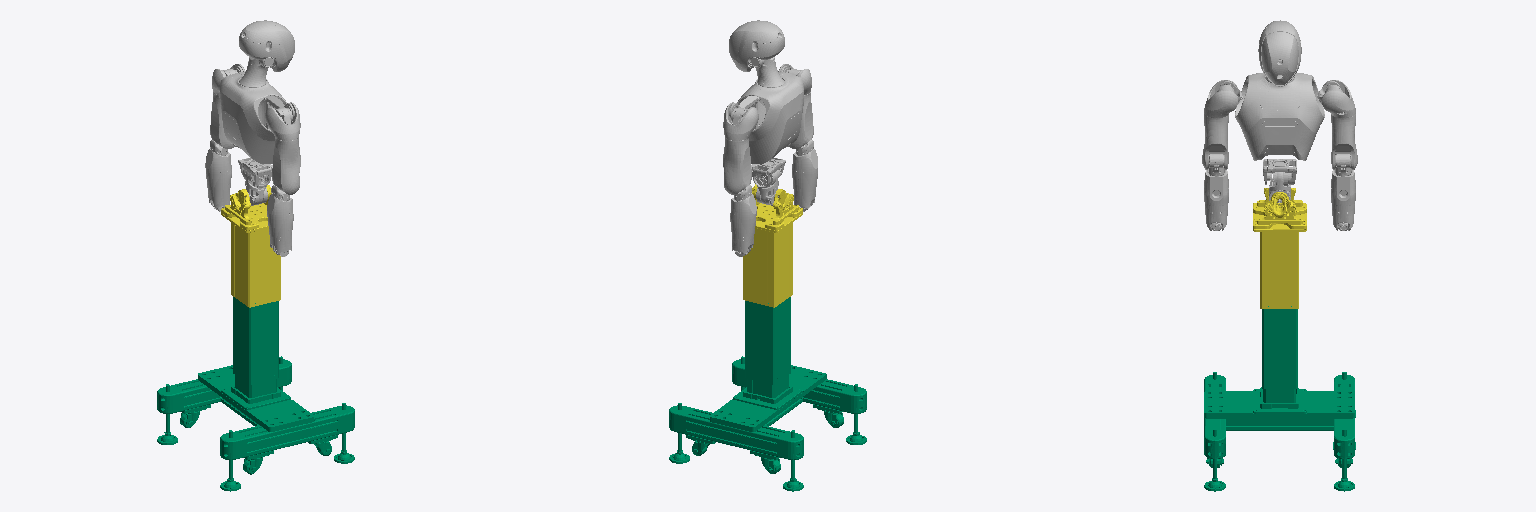
The robot description file, URDF, robot "adam_u":
<?xml version="1.0"?>
<!--
  Robot: adam_u
  Generated by: LinkForge v1.4.4
  https://github.com/arounamounchili/linkforge
  Date: 2026-09-14 10:14:31
-->
<robot name="adam_u">
  <!-- Materials -->
  <material name="Material">
    <color rgba="0.8 0.8 0.8 1" />
  </material>
  <material name="aluminium">
    <color rgba="0.8 0.8 0.8 1" />
  </material>
  <material name="neckYaw_visual_material">
    <color rgba="0.7 0.7 0.7 1" />
  </material>
  <material name="shoulderYawLeft_visual_material">
    <color rgba="0.7 0.7 0.7 1" />
  </material>
  <material name="shoulderYawRight_visual_material">
    <color rgba="0.7 0.7 0.7 1" />
  </material>
  <!-- Links -->
  <link name="elbowLeft">
    <inertial>
      <origin xyz="-0.013718 -0.178893 -1.250233" rpy="0 0 0" />
      <mass value="0.877615" />
      <inertia ixx="0.146269" ixy="0" ixz="0" iyy="0.146269" iyz="0" izz="0.146269" />
    </inertial>
    <visual>
      <origin xyz="-0.013494 0.0285 -0.031002" rpy="0 0 0" />
      <geometry>
        <mesh filename="meshes/elbowLeft_visual.stl" />
      </geometry>
      <material name="aluminium" />
    </visual>
    <collision>
      <origin xyz="-0.013718 -0.178893 -1.250233" rpy="0 0 0" />
      <geometry>
        <mesh filename="meshes/elbowLeft_collision.stl" />
      </geometry>
    </collision>
  </link>
  <link name="elbowRight">
    <inertial>
      <origin xyz="-0.013721 0.17784 -1.250233" rpy="0 0 0" />
      <mass value="0.877615" />
      <inertia ixx="0.146269" ixy="0" ixz="0" iyy="0.146269" iyz="0" izz="0.146269" />
    </inertial>
    <visual>
      <origin xyz="-0.013496 -0.0285 -0.031002" rpy="0 0 0" />
      <geometry>
        <mesh filename="meshes/elbowRight_visual.stl" />
      </geometry>
      <material name="aluminium" />
    </visual>
    <collision>
      <origin xyz="-0.013721 0.17784 -1.250233" rpy="0 0 0" />
      <geometry>
        <mesh filename="meshes/elbowRight_collision.stl" />
      </geometry>
    </collision>
  </link>
  <link name="lifting_Columns_base">
    <inertial>
      <origin xyz="0.000198 0 0.28387" rpy="0 0 0" />
      <mass value="1" />
      <inertia ixx="0.166667" ixy="0" ixz="0" iyy="0.166667" iyz="0" izz="0.166667" />
    </inertial>
    <visual>
      <origin xyz="0.000198 0 0.322" rpy="0 0 0" />
      <geometry>
        <mesh filename="meshes/lifting_Columns_base_visual.stl" />
      </geometry>
    </visual>
    <collision>
      <origin xyz="0.000198 0 0.28387" rpy="0 0 0" />
      <geometry>
        <mesh filename="meshes/lifting_Columns_base_collision.stl" />
      </geometry>
    </collision>
  </link>
  <link name="lifting_Columns_top_visual">
    <inertial>
      <origin xyz="-0.001022 0.001245 -0.411183" rpy="0 0 0" />
      <mass value="1" />
      <inertia ixx="0.166667" ixy="0" ixz="0" iyy="0.166667" iyz="0" izz="0.166667" />
    </inertial>
    <visual>
      <origin xyz="-0.000399 0.000636 0.232574" rpy="0 0 0" />
      <geometry>
        <mesh filename="meshes/lifting_Columns_top_visual_visual.stl" />
      </geometry>
    </visual>
    <collision>
      <origin xyz="-0.001022 0.001245 -0.411183" rpy="0 0 0" />
      <geometry>
        <mesh filename="meshes/lifting_Columns_top_visual_collision.stl" />
      </geometry>
    </collision>
  </link>
  <link name="neckPitch">
    <inertial>
      <origin xyz="0.009728 -0.040402 -1.627466" rpy="0 0 0" />
      <mass value="0.997409" />
      <inertia ixx="0.166235" ixy="0" ixz="0" iyy="0.166235" iyz="0" izz="0.166235" />
    </inertial>
    <visual>
      <origin xyz="0.028552 -0.019876 0.026487" rpy="0 0 0" />
      <geometry>
        <mesh filename="meshes/neckPitch_visual.stl" />
      </geometry>
      <material name="Material" />
    </visual>
    <collision>
      <origin xyz="0.009728 -0.040402 -1.627466" rpy="0 0 0" />
      <geometry>
        <mesh filename="meshes/neckPitch_collision.stl" />
      </geometry>
    </collision>
  </link>
  <link name="neckYaw">
    <inertial>
      <origin xyz="0.034852 -0.000403 -1.429138" rpy="0 0 0" />
      <mass value="0.412424" />
      <inertia ixx="0.068737" ixy="0" ixz="0" iyy="0.068737" iyz="0" izz="0.068737" />
    </inertial>
    <visual>
      <origin xyz="0.015556 -0.000019 0.07645" rpy="0 0 0" />
      <geometry>
        <mesh filename="meshes/neckYaw_visual_0.stl" />
      </geometry>
      <material name="neckYaw_visual_material" />
    </visual>
    <visual>
      <origin xyz="0.022076 0.000124 0.079432" rpy="0 0 0" />
      <geometry>
        <mesh filename="meshes/neckYaw_visual_1.stl" />
      </geometry>
      <material name="Material" />
    </visual>
    <collision>
      <origin xyz="0.034852 -0.000403 -1.429138" rpy="0 0 0" />
      <geometry>
        <mesh filename="meshes/neckYaw_collision.stl" />
      </geometry>
    </collision>
  </link>
  <link name="shoulderPitchLeft">
    <inertial>
      <origin xyz="-0.001474 -0.622045 -1.334742" rpy="-0.34907 0 0" />
      <mass value="0.216536" />
      <inertia ixx="0.036089" ixy="0" ixz="0" iyy="0.036089" iyz="0" izz="0.036089" />
    </inertial>
    <visual>
      <origin xyz="-0.00125 0.031009 0.01129" rpy="0.34907 0 0" />
      <geometry>
        <mesh filename="meshes/shoulderPitchLeft_visual.stl" />
      </geometry>
      <material name="aluminium" />
    </visual>
    <collision>
      <origin xyz="-0.001474 -0.622045 -1.334742" rpy="-0.34907 0 0" />
      <geometry>
        <mesh filename="meshes/shoulderPitchLeft_collision.stl" />
      </geometry>
    </collision>
  </link>
  <link name="shoulderPitchRight">
    <inertial>
      <origin xyz="-0.001474 0.621054 -1.335099" rpy="0.34907 0 0" />
      <mass value="0.216536" />
      <inertia ixx="0.036089" ixy="0" ixz="0" iyy="0.036089" iyz="0" izz="0.036089" />
    </inertial>
    <visual>
      <origin xyz="-0.00125 -0.031008 0.011293" rpy="-0.34907 0 0" />
      <geometry>
        <mesh filename="meshes/shoulderPitchRight_visual.stl" />
      </geometry>
      <material name="aluminium" />
    </visual>
    <collision>
      <origin xyz="-0.001474 0.621054 -1.335099" rpy="0.34907 0 0" />
      <geometry>
        <mesh filename="meshes/shoulderPitchRight_collision.stl" />
      </geometry>
    </collision>
  </link>
  <link name="shoulderRollLeft">
    <inertial>
      <origin xyz="-0.066384 -0.18505 -1.491619" rpy="0 0 0" />
      <mass value="0.746227" />
      <inertia ixx="0.124371" ixy="0" ixz="0" iyy="0.124371" iyz="0" izz="0.124371" />
    </inertial>
    <visual>
      <origin xyz="-0.03275 0.015476 -0.015" rpy="0 0 0" />
      <geometry>
        <mesh filename="meshes/shoulderRollLeft_visual_0.stl" />
      </geometry>
      <material name="aluminium" />
    </visual>
    <visual>
      <origin xyz="-0.03266 0.016844 -0.009738" rpy="0 0 0" />
      <geometry>
        <mesh filename="meshes/shoulderRollLeft_visual_1.stl" />
      </geometry>
      <material name="Material" />
    </visual>
    <collision>
      <origin xyz="-0.066384 -0.18505 -1.491619" rpy="0 0 0" />
      <geometry>
        <mesh filename="meshes/shoulderRollLeft_collision.stl" />
      </geometry>
    </collision>
  </link>
  <link name="shoulderRollRight">
    <inertial>
      <origin xyz="-0.066384 0.183996 -1.491619" rpy="0 0 0" />
      <mass value="0.745069" />
      <inertia ixx="0.124178" ixy="0" ixz="0" iyy="0.124178" iyz="0" izz="0.124178" />
    </inertial>
    <visual>
      <origin xyz="-0.032742 -0.015481 -0.015" rpy="0 0 0" />
      <geometry>
        <mesh filename="meshes/shoulderRollRight_visual_0.stl" />
      </geometry>
      <material name="aluminium" />
    </visual>
    <visual>
      <origin xyz="-0.03266 -0.016844 -0.009738" rpy="0 0 0" />
      <geometry>
        <mesh filename="meshes/shoulderRollRight_visual_1.stl" />
      </geometry>
      <material name="Material" />
    </visual>
    <collision>
      <origin xyz="-0.066384 0.183996 -1.491619" rpy="0 0 0" />
      <geometry>
        <mesh filename="meshes/shoulderRollRight_collision.stl" />
      </geometry>
    </collision>
  </link>
  <link name="shoulderYawLeft">
    <inertial>
      <origin xyz="0.001096 -0.232703 -1.542371" rpy="0 0 0" />
      <mass value="0.765739" />
      <inertia ixx="0.127623" ixy="0" ixz="0" iyy="0.127623" iyz="0" izz="0.127623" />
    </inertial>
    <visual>
      <origin xyz="-0.0025 0.00225 -0.117075" rpy="0 0 0" />
      <geometry>
        <mesh filename="meshes/shoulderYawLeft_visual_0.stl" />
      </geometry>
      <material name="shoulderYawLeft_visual_material" />
    </visual>
    <visual>
      <origin xyz="0.00132 0.003191 -0.122632" rpy="0 0 0" />
      <geometry>
        <mesh filename="meshes/shoulderYawLeft_visual_1.stl" />
      </geometry>
      <material name="Material" />
    </visual>
    <collision>
      <origin xyz="0.001096 -0.232703 -1.542371" rpy="0 0 0" />
      <geometry>
        <mesh filename="meshes/shoulderYawLeft_collision.stl" />
      </geometry>
    </collision>
  </link>
  <link name="shoulderYawRight">
    <inertial>
      <origin xyz="0.001096 0.231649 -1.542371" rpy="0 0 0" />
      <mass value="0.765306" />
      <inertia ixx="0.127551" ixy="0" ixz="0" iyy="0.127551" iyz="0" izz="0.127551" />
    </inertial>
    <visual>
      <origin xyz="-0.0025 -0.00225 -0.117075" rpy="0 0 0" />
      <geometry>
        <mesh filename="meshes/shoulderYawRight_visual_0.stl" />
      </geometry>
      <material name="shoulderYawRight_visual_material" />
    </visual>
    <visual>
      <origin xyz="0.00132 -0.003191 -0.122632" rpy="0 0 0" />
      <geometry>
        <mesh filename="meshes/shoulderYawRight_visual_1.stl" />
      </geometry>
      <material name="Material" />
    </visual>
    <collision>
      <origin xyz="0.001096 0.231649 -1.542371" rpy="0 0 0" />
      <geometry>
        <mesh filename="meshes/shoulderYawRight_collision.stl" />
      </geometry>
    </collision>
  </link>
  <link name="torso">
    <inertial>
      <origin xyz="-0.00404 -0.000449 -1.039241" rpy="0 0 0" />
      <mass value="12.229875" />
      <inertia ixx="2.038312" ixy="0" ixz="0" iyy="2.038312" iyz="0" izz="2.038312" />
    </inertial>
    <visual>
      <origin xyz="0.001034 0.000078 0.157265" rpy="0 0 0" />
      <geometry>
        <mesh filename="meshes/torso_visual_0.stl" />
      </geometry>
      <material name="aluminium" />
    </visual>
    <visual>
      <origin xyz="-0.003816 0.000128 0.1871" rpy="0 0 0" />
      <geometry>
        <mesh filename="meshes/torso_visual_1.stl" />
      </geometry>
      <material name="Material" />
    </visual>
    <collision>
      <origin xyz="-0.00404 -0.000449 -1.039241" rpy="0 0 0" />
      <geometry>
        <mesh filename="meshes/torso_collision.stl" />
      </geometry>
    </collision>
  </link>
  <link name="waistPitch">
    <inertial>
      <origin xyz="-0.000224 -0.000031 -1.145703" rpy="0 0 0" />
      <mass value="0.563538" />
      <inertia ixx="0.093923" ixy="0" ixz="0" iyy="0.093923" iyz="0" izz="0.093923" />
    </inertial>
    <visual>
      <origin xyz="0 -0.000005 0.01075" rpy="0 0 0" />
      <geometry>
        <mesh filename="meshes/waistPitch_visual.stl" />
      </geometry>
      <material name="aluminium" />
    </visual>
    <collision>
      <origin xyz="-0.000224 -0.000031 -1.145703" rpy="0 0 0" />
      <geometry>
        <mesh filename="meshes/waistPitch_collision.stl" />
      </geometry>
    </collision>
  </link>
  <link name="waistRoll">
    <inertial>
      <origin xyz="-0.007174 -0.006977 -1.036453" rpy="0 0 0" />
      <mass value="2.362685" />
      <inertia ixx="0.393781" ixy="0" ixz="0" iyy="0.393781" iyz="0" izz="0.393781" />
    </inertial>
    <visual>
      <origin xyz="-0.00695 -0.00695 0.04" rpy="0 0 0" />
      <geometry>
        <mesh filename="meshes/waistRoll_visual.stl" />
      </geometry>
      <material name="aluminium" />
    </visual>
    <collision>
      <origin xyz="-0.007174 -0.006977 -1.036453" rpy="0 0 0" />
      <geometry>
        <mesh filename="meshes/waistRoll_collision.stl" />
      </geometry>
    </collision>
  </link>
  <link name="wristPitchLeft">
    <inertial>
      <origin xyz="0.024776 -0.235893 -0.944673" rpy="0 0 0" />
      <mass value="0.119635" />
      <inertia ixx="0.019939" ixy="0" ixz="0" iyy="0.019939" iyz="0" izz="0.019939" />
    </inertial>
    <visual>
      <origin xyz="0 0 -0.000042" rpy="0 0 0" />
      <geometry>
        <mesh filename="meshes/wristPitchLeft_visual.stl" />
      </geometry>
      <material name="aluminium" />
    </visual>
    <collision>
      <origin xyz="0.024776 -0.235893 -0.944673" rpy="0 0 0" />
      <geometry>
        <mesh filename="meshes/wristPitchLeft_collision.stl" />
      </geometry>
    </collision>
  </link>
  <link name="wristPitchRight">
    <inertial>
      <origin xyz="0.024776 0.23484 -0.944673" rpy="0 0 0" />
      <mass value="0.119635" />
      <inertia ixx="0.019939" ixy="0" ixz="0" iyy="0.019939" iyz="0" izz="0.019939" />
    </inertial>
    <visual>
      <origin xyz="0 0 -0.000042" rpy="0 0 0" />
      <geometry>
        <mesh filename="meshes/wristPitchRight_visual.stl" />
      </geometry>
      <material name="aluminium" />
    </visual>
    <collision>
      <origin xyz="0.024776 0.23484 -0.944673" rpy="0 0 0" />
      <geometry>
        <mesh filename="meshes/wristPitchRight_collision.stl" />
      </geometry>
    </collision>
  </link>
  <link name="wristYawLeft">
    <inertial>
      <origin xyz="0.01953 -0.235917 -1.241438" rpy="0 0 0" />
      <mass value="0.955879" />
      <inertia ixx="0.159313" ixy="0" ixz="0" iyy="0.159313" iyz="0" izz="0.159313" />
    </inertial>
    <visual>
      <origin xyz="0.000027 -0.000068 -0.11085" rpy="0 0 0" />
      <geometry>
        <mesh filename="meshes/wristYawLeft_visual_0.stl" />
      </geometry>
      <material name="aluminium" />
    </visual>
    <visual>
      <origin xyz="-0.005246 -0.000024 -0.083975" rpy="0 0 0" />
      <geometry>
        <mesh filename="meshes/wristYawLeft_visual_1.stl" />
      </geometry>
      <material name="Material" />
    </visual>
    <collision>
      <origin xyz="0.01953 -0.235917 -1.241438" rpy="0 0 0" />
      <geometry>
        <mesh filename="meshes/wristYawLeft_collision.stl" />
      </geometry>
    </collision>
  </link>
  <link name="wristYawRight">
    <inertial>
      <origin xyz="0.01953 0.23474 -1.241437" rpy="0 0 0" />
      <mass value="0.955878" />
      <inertia ixx="0.159313" ixy="0" ixz="0" iyy="0.159313" iyz="0" izz="0.159313" />
    </inertial>
    <visual>
      <origin xyz="0.000041 0.000063 -0.11085" rpy="0 0 0" />
      <geometry>
        <mesh filename="meshes/wristYawRight_visual_0.stl" />
      </geometry>
      <material name="aluminium" />
    </visual>
    <visual>
      <origin xyz="-0.005246 -0.0001 -0.083973" rpy="0 0 0" />
      <geometry>
        <mesh filename="meshes/wristYawRight_visual_1.stl" />
      </geometry>
      <material name="Material" />
    </visual>
    <collision>
      <origin xyz="0.01953 0.23474 -1.241437" rpy="0 0 0" />
      <geometry>
        <mesh filename="meshes/wristYawRight_collision.stl" />
      </geometry>
    </collision>
  </link>
  <!-- Joints -->
  <joint name="elbow_Left" type="revolute">
    <origin xyz="0 -0.0285 -0.20415" rpy="0 0 0" />
    <parent link="shoulderYawLeft" />
    <child link="elbowLeft" />
    <axis xyz="0 1 0" />
    <limit effort="30" velocity="8" lower="-2.496" upper="0.209" />
    <dynamics damping="10.43184" friction="312.9552" />
  </joint>
  <joint name="elbow_Right" type="revolute">
    <origin xyz="0 0.0285 -0.20415" rpy="0 0 0" />
    <parent link="shoulderYawRight" />
    <child link="elbowRight" />
    <axis xyz="0 1 0" />
    <limit effort="30" velocity="8" lower="-2.496" upper="0.209" />
    <dynamics damping="10.43184" friction="312.9552" />
  </joint>
  <joint name="lifting_Columns_top_visual_joint" type="prismatic">
    <origin xyz="0.000623 -0.000609 0.643756" rpy="0 0 0" />
    <parent link="lifting_Columns_base" />
    <child link="lifting_Columns_top_visual" />
    <axis xyz="0 0 1" />
    <limit effort="10" velocity="1" lower="-0.3987" upper="0" />
  </joint>
  <joint name="neckPitch" type="revolute">
    <origin xyz="0.0316 0.02 0.14595" rpy="0 0 0" />
    <parent link="neckYaw" />
    <child link="neckPitch" />
    <axis xyz="0 1 0" />
    <limit effort="6.4" velocity="5" lower="-0.873" upper="0.873" />
    <dynamics damping="5.21592" friction="260.79599" />
  </joint>
  <joint name="neckYaw" type="revolute">
    <origin xyz="-0.013 0 0.29855" rpy="0 0 0" />
    <parent link="torso" />
    <child link="neckYaw" />
    <axis xyz="0 0 1" />
    <limit effort="6.4" velocity="5" lower="-1.571" upper="1.571" />
    <dynamics damping="5.21592" friction="260.79599" />
  </joint>
  <joint name="shoulderPitch_Left" type="revolute">
    <origin xyz="0 0.16049 0.25755" rpy="0.34907 0 0" />
    <parent link="torso" />
    <child link="shoulderPitchLeft" />
    <axis xyz="0 1 0" />
    <limit effort="65" velocity="8" lower="-3.613" upper="2.042" />
    <dynamics damping="9.80264" friction="294.079193" />
  </joint>
  <joint name="shoulderPitch_Right" type="revolute">
    <origin xyz="0 -0.16049 0.25755" rpy="-0.34907 0 0" />
    <parent link="torso" />
    <child link="shoulderPitchRight" />
    <axis xyz="0 1 0" />
    <limit effort="65" velocity="8" lower="-3.613" upper="2.042" />
    <dynamics damping="9.80264" friction="294.079193" />
    <safety_controller soft_lower_limit="0" soft_upper_limit="0" k_position="0" k_velocity="0" />
  </joint>
  <joint name="shoulderRoll_Left" type="revolute">
    <origin xyz="0.0335 0.0435 0" rpy="-0.34907 0 0" />
    <parent link="shoulderPitchLeft" />
    <child link="shoulderRollLeft" />
    <axis xyz="1 0 0" />
    <limit effort="65" velocity="8" lower="-0.628" upper="2.793" />
    <dynamics damping="9.80264" friction="294.079193" />
  </joint>
  <joint name="shoulderRoll_Right" type="revolute">
    <origin xyz="0.0335 -0.0435 0" rpy="0.34907 0 0" />
    <parent link="shoulderPitchRight" />
    <child link="shoulderRollRight" />
    <axis xyz="1 0 0" />
    <limit effort="65" velocity="8" lower="-2.793" upper="0.628" />
    <dynamics damping="9.80264" friction="294.079193" />
  </joint>
  <joint name="shoulderYaw_Left" type="revolute">
    <origin xyz="-0.0335 0.034 -0.0585" rpy="0 0 0" />
    <parent link="shoulderRollLeft" />
    <child link="shoulderYawLeft" />
    <axis xyz="0 0 1" />
    <limit effort="65" velocity="8" lower="-2.583" upper="2.583" />
    <dynamics damping="10.43184" friction="312.9552" />
  </joint>
  <joint name="shoulderYaw_Right" type="revolute">
    <origin xyz="-0.0335 -0.034 -0.0585" rpy="0 0 0" />
    <parent link="shoulderRollRight" />
    <child link="shoulderYawRight" />
    <axis xyz="0 0 1" />
    <limit effort="65" velocity="8" lower="-2.583" upper="2.583" />
    <dynamics damping="10.43184" friction="312.9552" />
  </joint>
  <joint name="waistPitch" type="revolute">
    <origin xyz="0 0 0.08" rpy="0 0 0" />
    <parent link="waistRoll" />
    <child link="waistPitch" />
    <axis xyz="0 1 0" />
    <limit effort="110" velocity="8" lower="-0.663" upper="1.361" />
    <dynamics damping="30.6332" friction="1837.991943" />
  </joint>
  <joint name="waistRoll" type="revolute">
    <origin xyz="-0.000399 0.000636 0.432696" rpy="0 0 0" />
    <parent link="lifting_Columns_top_visual" />
    <child link="waistRoll" />
    <axis xyz="1 0 0" />
    <limit effort="110" velocity="8" lower="-0.279" upper="0.279" />
    <dynamics damping="30.6332" friction="1837.991943" />
  </joint>
  <joint name="waistYaw" type="revolute">
    <origin xyz="0 0.0005 0.053" rpy="0 0 0" />
    <parent link="waistPitch" />
    <child link="torso" />
    <axis xyz="0 0 1" />
    <limit effort="110" velocity="8" lower="-0.829" upper="0.829" />
    <dynamics damping="30.6332" friction="1837.991943" />
  </joint>
  <joint name="wristPitch_Left" type="revolute">
    <origin xyz="0 0 -0.2017" rpy="0 0 0" />
    <parent link="wristYawLeft" />
    <child link="wristPitchLeft" />
    <axis xyz="0 1 0" />
    <limit effort="6.4" velocity="5" lower="-0.96" upper="0.96" />
    <dynamics damping="10.43184" friction="312.9552" />
  </joint>
  <joint name="wristPitch_Right" type="revolute">
    <origin xyz="0 0 -0.2017" rpy="0 0 0" />
    <parent link="wristYawRight" />
    <child link="wristPitchRight" />
    <axis xyz="0 1 0" />
    <limit effort="6.4" velocity="5" lower="-0.96" upper="0.96" />
    <dynamics damping="10.43184" friction="312.9552" />
  </joint>
  <joint name="wristYaw_Left" type="revolute">
    <origin xyz="-0.025 0.0285 -0.0729" rpy="0 0 0" />
    <parent link="elbowLeft" />
    <child link="wristYawLeft" />
    <axis xyz="0 0 1" />
    <limit effort="6.4" velocity="5" lower="-2.67" upper="2.67" />
    <dynamics damping="10.43184" friction="312.9552" />
  </joint>
  <joint name="wristYaw_Right" type="revolute">
    <origin xyz="-0.025 -0.0285 -0.0729" rpy="0 0 0" />
    <parent link="elbowRight" />
    <child link="wristYawRight" />
    <axis xyz="0 0 1" />
    <limit effort="6.4" velocity="5" lower="-2.67" upper="2.67" />
    <dynamics damping="10.43184" friction="312.9552" />
  </joint>
</robot>

--- What the picture shows (computed from the rendered views, not written in the file) ---
The picture shows the robot from 3 angles, left to right: view 1: azimuth 30°, elevation 25°; view 2: azimuth 150°, elevation 25°; view 3: azimuth 270°, elevation 25°; orthographic projection.
Robot: adam_u — 19 links, 18 joints (17 revolute, 1 prismatic); root link lifting_Columns_base; default pose: every joint at zero.
Visible links, largest first — view 1: lifting_Columns_base, lifting_Columns_top_visual, torso, neckPitch, shoulderYawRight, wristYawRight, wristYawLeft, shoulderRollRight, neckYaw, shoulderYawLeft, waistRoll; view 2: lifting_Columns_base, lifting_Columns_top_visual, torso, neckPitch, shoulderYawLeft, wristYawLeft, wristYawRight, shoulderRollLeft, neckYaw, shoulderYawRight, waistPitch; view 3: lifting_Columns_base, torso, lifting_Columns_top_visual, neckPitch, wristYawRight, wristYawLeft, shoulderYawLeft, shoulderYawRight, shoulderRollRight, shoulderRollLeft, waistPitch.
Boxes of the visible links, x1=… form: lifting_Columns_base: x1=157, y1=297, x2=354, y2=491; lifting_Columns_top_visual: x1=221, y1=185, x2=280, y2=307; torso: x1=219, y1=72, x2=286, y2=163; neckPitch: x1=239, y1=20, x2=294, y2=71; shoulderYawRight: x1=272, y1=138, x2=300, y2=194; wristYawRight: x1=267, y1=194, x2=293, y2=256; wristYawLeft: x1=205, y1=149, x2=231, y2=211; shoulderRollRight: x1=265, y1=102, x2=300, y2=140; neckYaw: x1=239, y1=57, x2=273, y2=87; shoulderYawLeft: x1=210, y1=92, x2=234, y2=148; waistRoll: x1=243, y1=169, x2=267, y2=205; lifting_Columns_base: x1=669, y1=297, x2=866, y2=491; lifting_Columns_top_visual: x1=743, y1=184, x2=802, y2=307; torso: x1=737, y1=72, x2=803, y2=163; neckPitch: x1=729, y1=20, x2=784, y2=71; shoulderYawLeft: x1=723, y1=138, x2=751, y2=194; wristYawLeft: x1=730, y1=194, x2=756, y2=256; wristYawRight: x1=792, y1=149, x2=817, y2=211; shoulderRollLeft: x1=723, y1=102, x2=758, y2=140; neckYaw: x1=750, y1=57, x2=783, y2=87; shoulderYawRight: x1=789, y1=92, x2=813, y2=148; waistPitch: x1=751, y1=158, x2=785, y2=187; lifting_Columns_base: x1=1204, y1=306, x2=1355, y2=491; torso: x1=1235, y1=72, x2=1324, y2=160; lifting_Columns_top_visual: x1=1253, y1=188, x2=1306, y2=308; neckPitch: x1=1258, y1=20, x2=1301, y2=86; wristYawRight: x1=1204, y1=170, x2=1228, y2=230; wristYawLeft: x1=1331, y1=170, x2=1355, y2=230; shoulderYawLeft: x1=1331, y1=114, x2=1357, y2=169; shoulderYawRight: x1=1202, y1=114, x2=1228, y2=169; shoulderRollRight: x1=1204, y1=80, x2=1237, y2=117; shoulderRollLeft: x1=1322, y1=80, x2=1355, y2=117; waistPitch: x1=1263, y1=159, x2=1296, y2=184.
Bounding box of the posed robot: 0.58 × 0.5779 × 1.79 m (x, y, z).
26 mesh visuals loaded from 27 distinct referenced files (26 binary STL); not drawn: 1 (reference not matched to a file when rendering).
